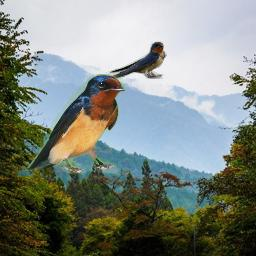Swallow: (26, 74, 125, 173), (100, 41, 167, 79)
